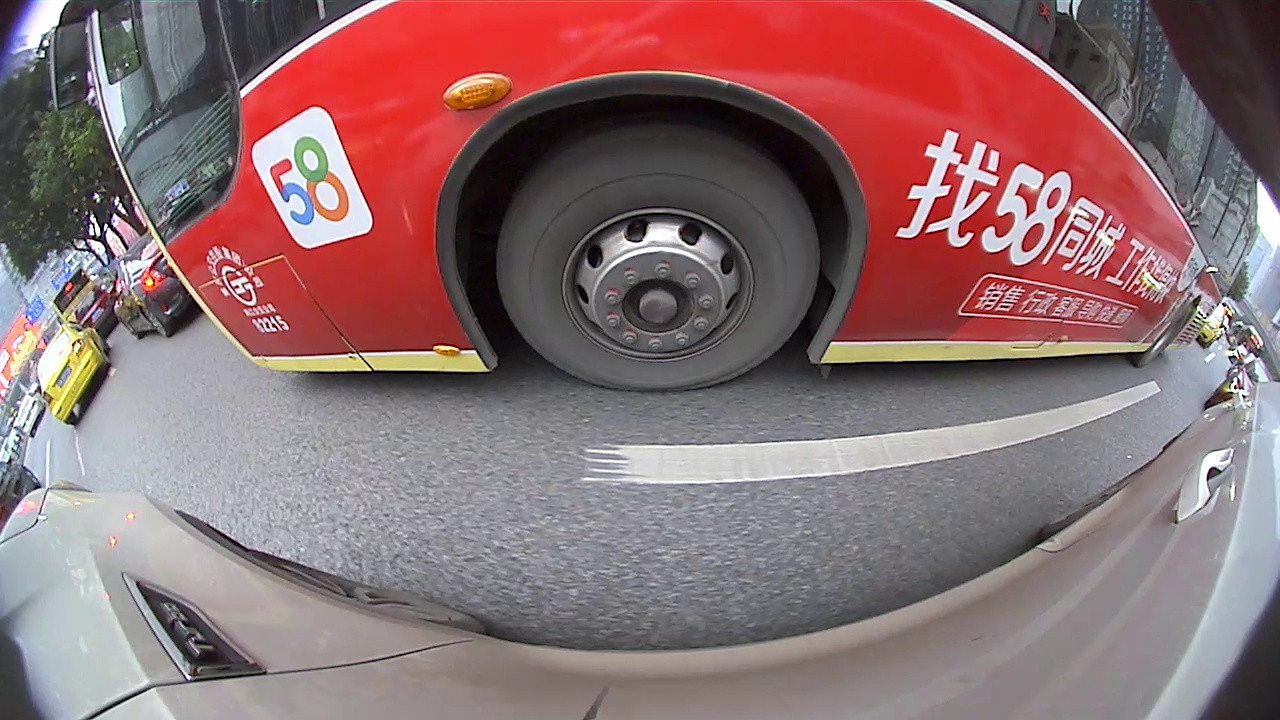bus: (39, 2, 1259, 394)
car: (111, 231, 202, 344), (29, 319, 113, 428)
front: (490, 121, 826, 394)
rear: (1130, 300, 1201, 369), (136, 307, 173, 338)
